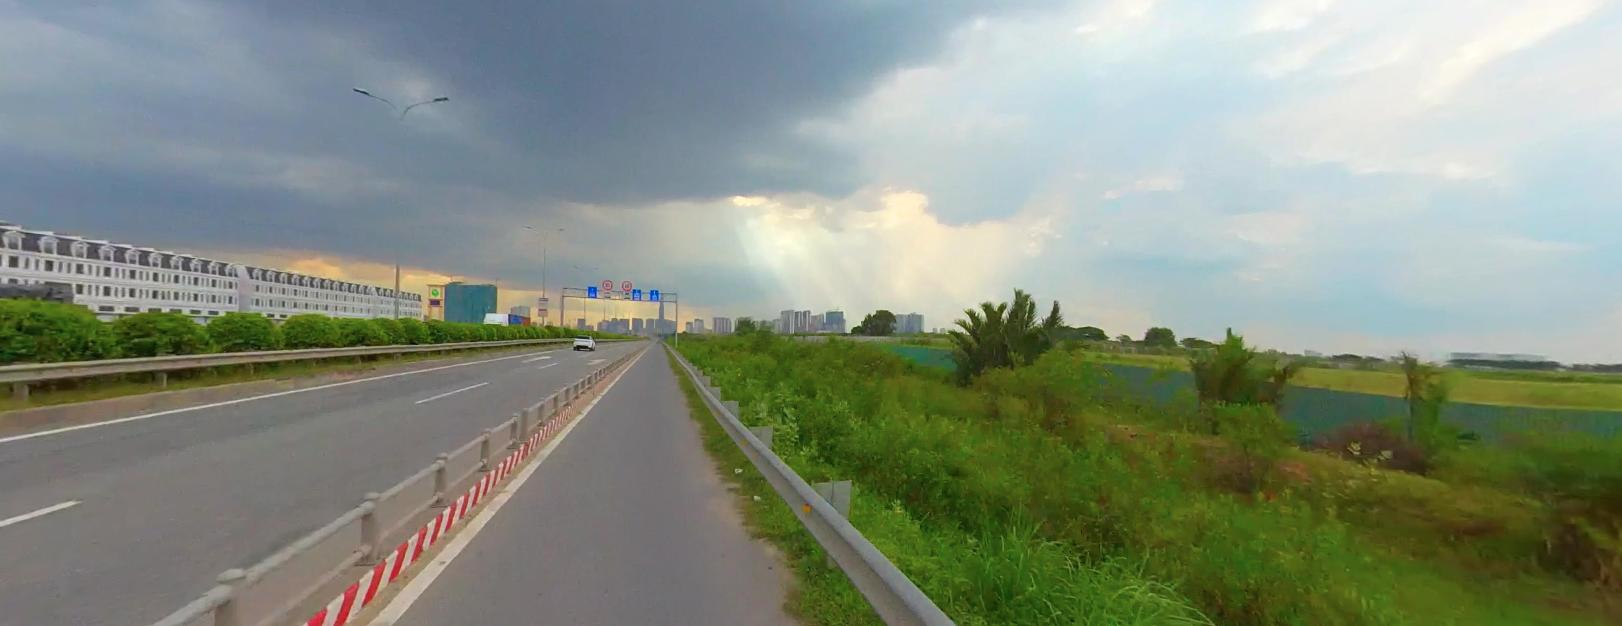Cam con lai: (621, 279, 631, 289), (602, 278, 611, 288)
Gioi han toc do: (621, 279, 630, 288), (602, 278, 611, 287)
